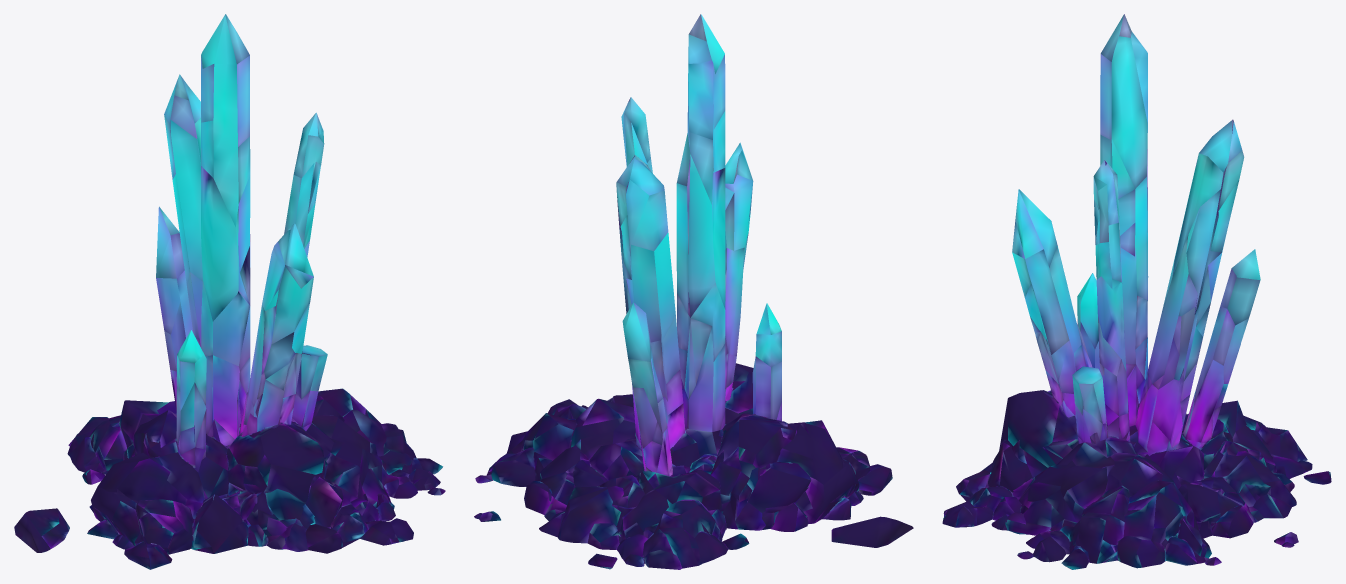
File: prop-crystal-cluster-lod2.glb
The picture shows the model from 3 angles, left to right: view 1: azimuth 30°, elevation 25°; view 2: azimuth 150°, elevation 25°; view 3: azimuth 270°, elevation 25°; orthographic projection. The views are drawn at different scales.
Visible parts, largest first — view 1: Mesh_0; view 2: Mesh_0; view 3: Mesh_0.
Boxes of the visible parts, x1,y1,x2,y2 form: Mesh_0: (14,14,445,569); Mesh_0: (474,14,913,569); Mesh_0: (942,14,1331,569).
Size of the model in its own units: 1.62 by 1.9 by 1.44.
1 material, 1 textured.
